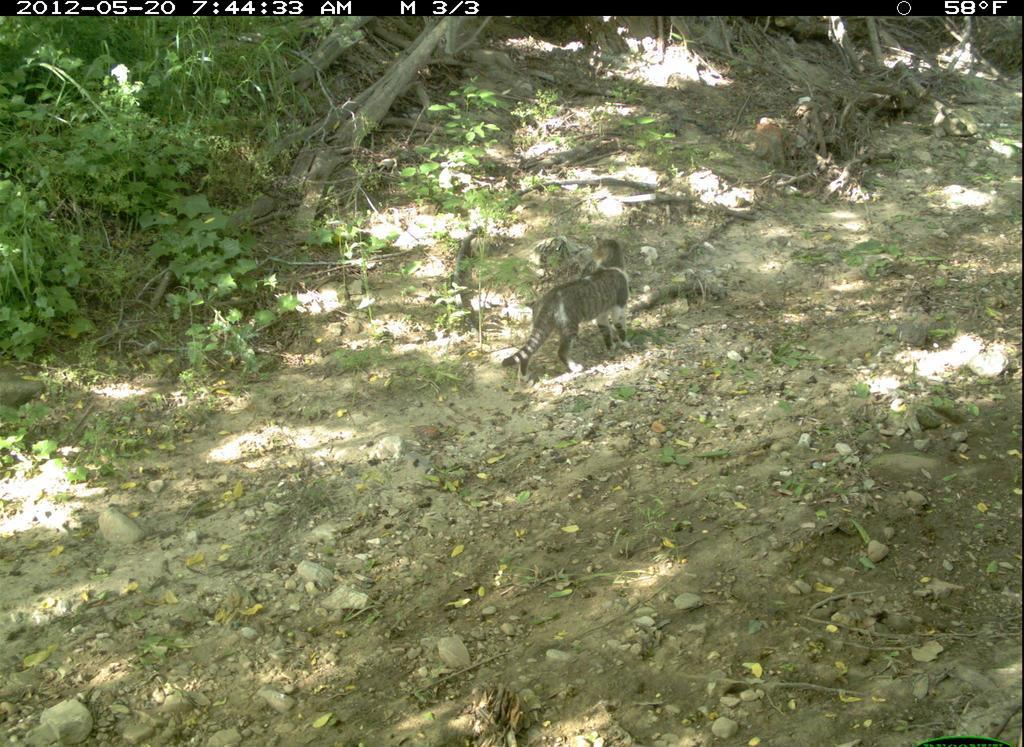cat: (501, 230, 642, 387)
